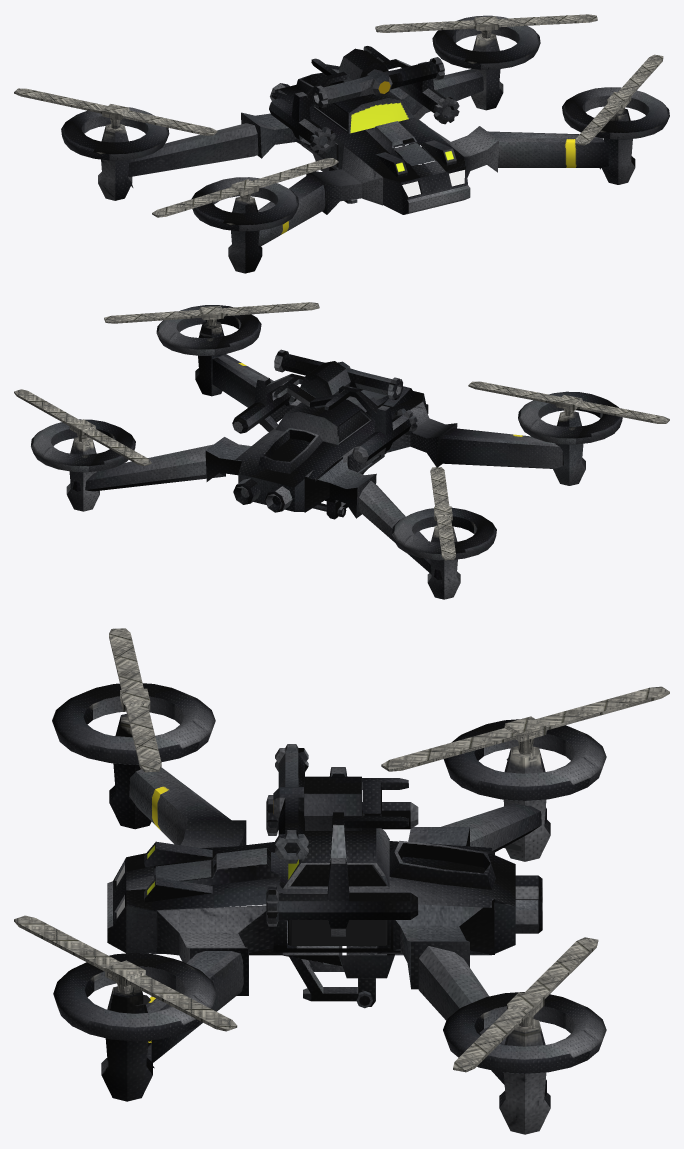
File: drone.fbx
3 views of the same model, one above another, from view 1: azimuth 30°, elevation 25°; view 2: azimuth 150°, elevation 25°; view 3: azimuth 270°, elevation 25° (orthographic). The views are drawn at different scales.
Visible parts, largest first — view 1: pCylinder7, polySurface729, polySurface730, polySurface731, polySurface138; view 2: pCylinder7, polySurface138, polySurface731, polySurface729, polySurface730; view 3: pCylinder7, polySurface730, polySurface138, polySurface729, polySurface731.
Boxes of the visible parts, x1,y1,x2,y2 form: pCylinder7: (61, 15, 669, 273); polySurface729: (375, 14, 597, 38); polySurface730: (14, 88, 217, 135); polySurface731: (152, 158, 338, 217); polySurface138: (575, 54, 663, 145); pCylinder7: (31, 305, 622, 599); polySurface138: (104, 302, 319, 326); polySurface731: (468, 381, 669, 423); polySurface729: (14, 389, 151, 465); polySurface730: (430, 467, 455, 560); pCylinder7: (52, 683, 606, 1134); polySurface730: (381, 686, 669, 771); polySurface138: (14, 915, 237, 1031); polySurface729: (453, 937, 598, 1072); polySurface731: (109, 628, 161, 772).
Bounding box in the file's own units: 13.14 × 3.19 × 8.89.
Materials: 1 (1 with a texture image).
